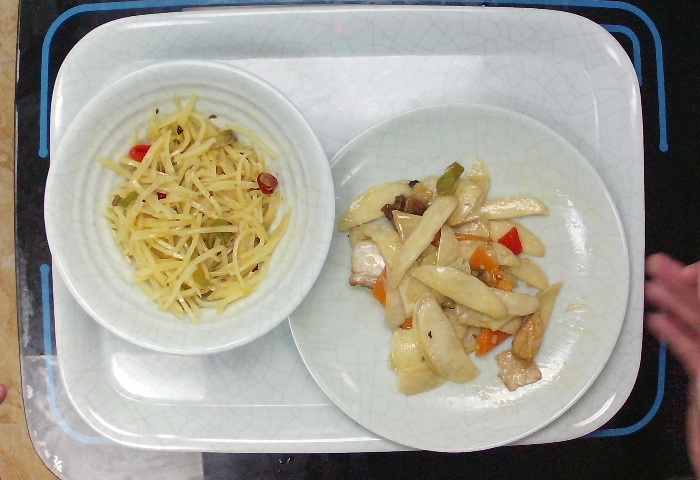JYsf-Da_Yuan_Pan: (286, 96, 641, 459)
JYsf-Xiao_Tang_Wan: (43, 69, 339, 351)
